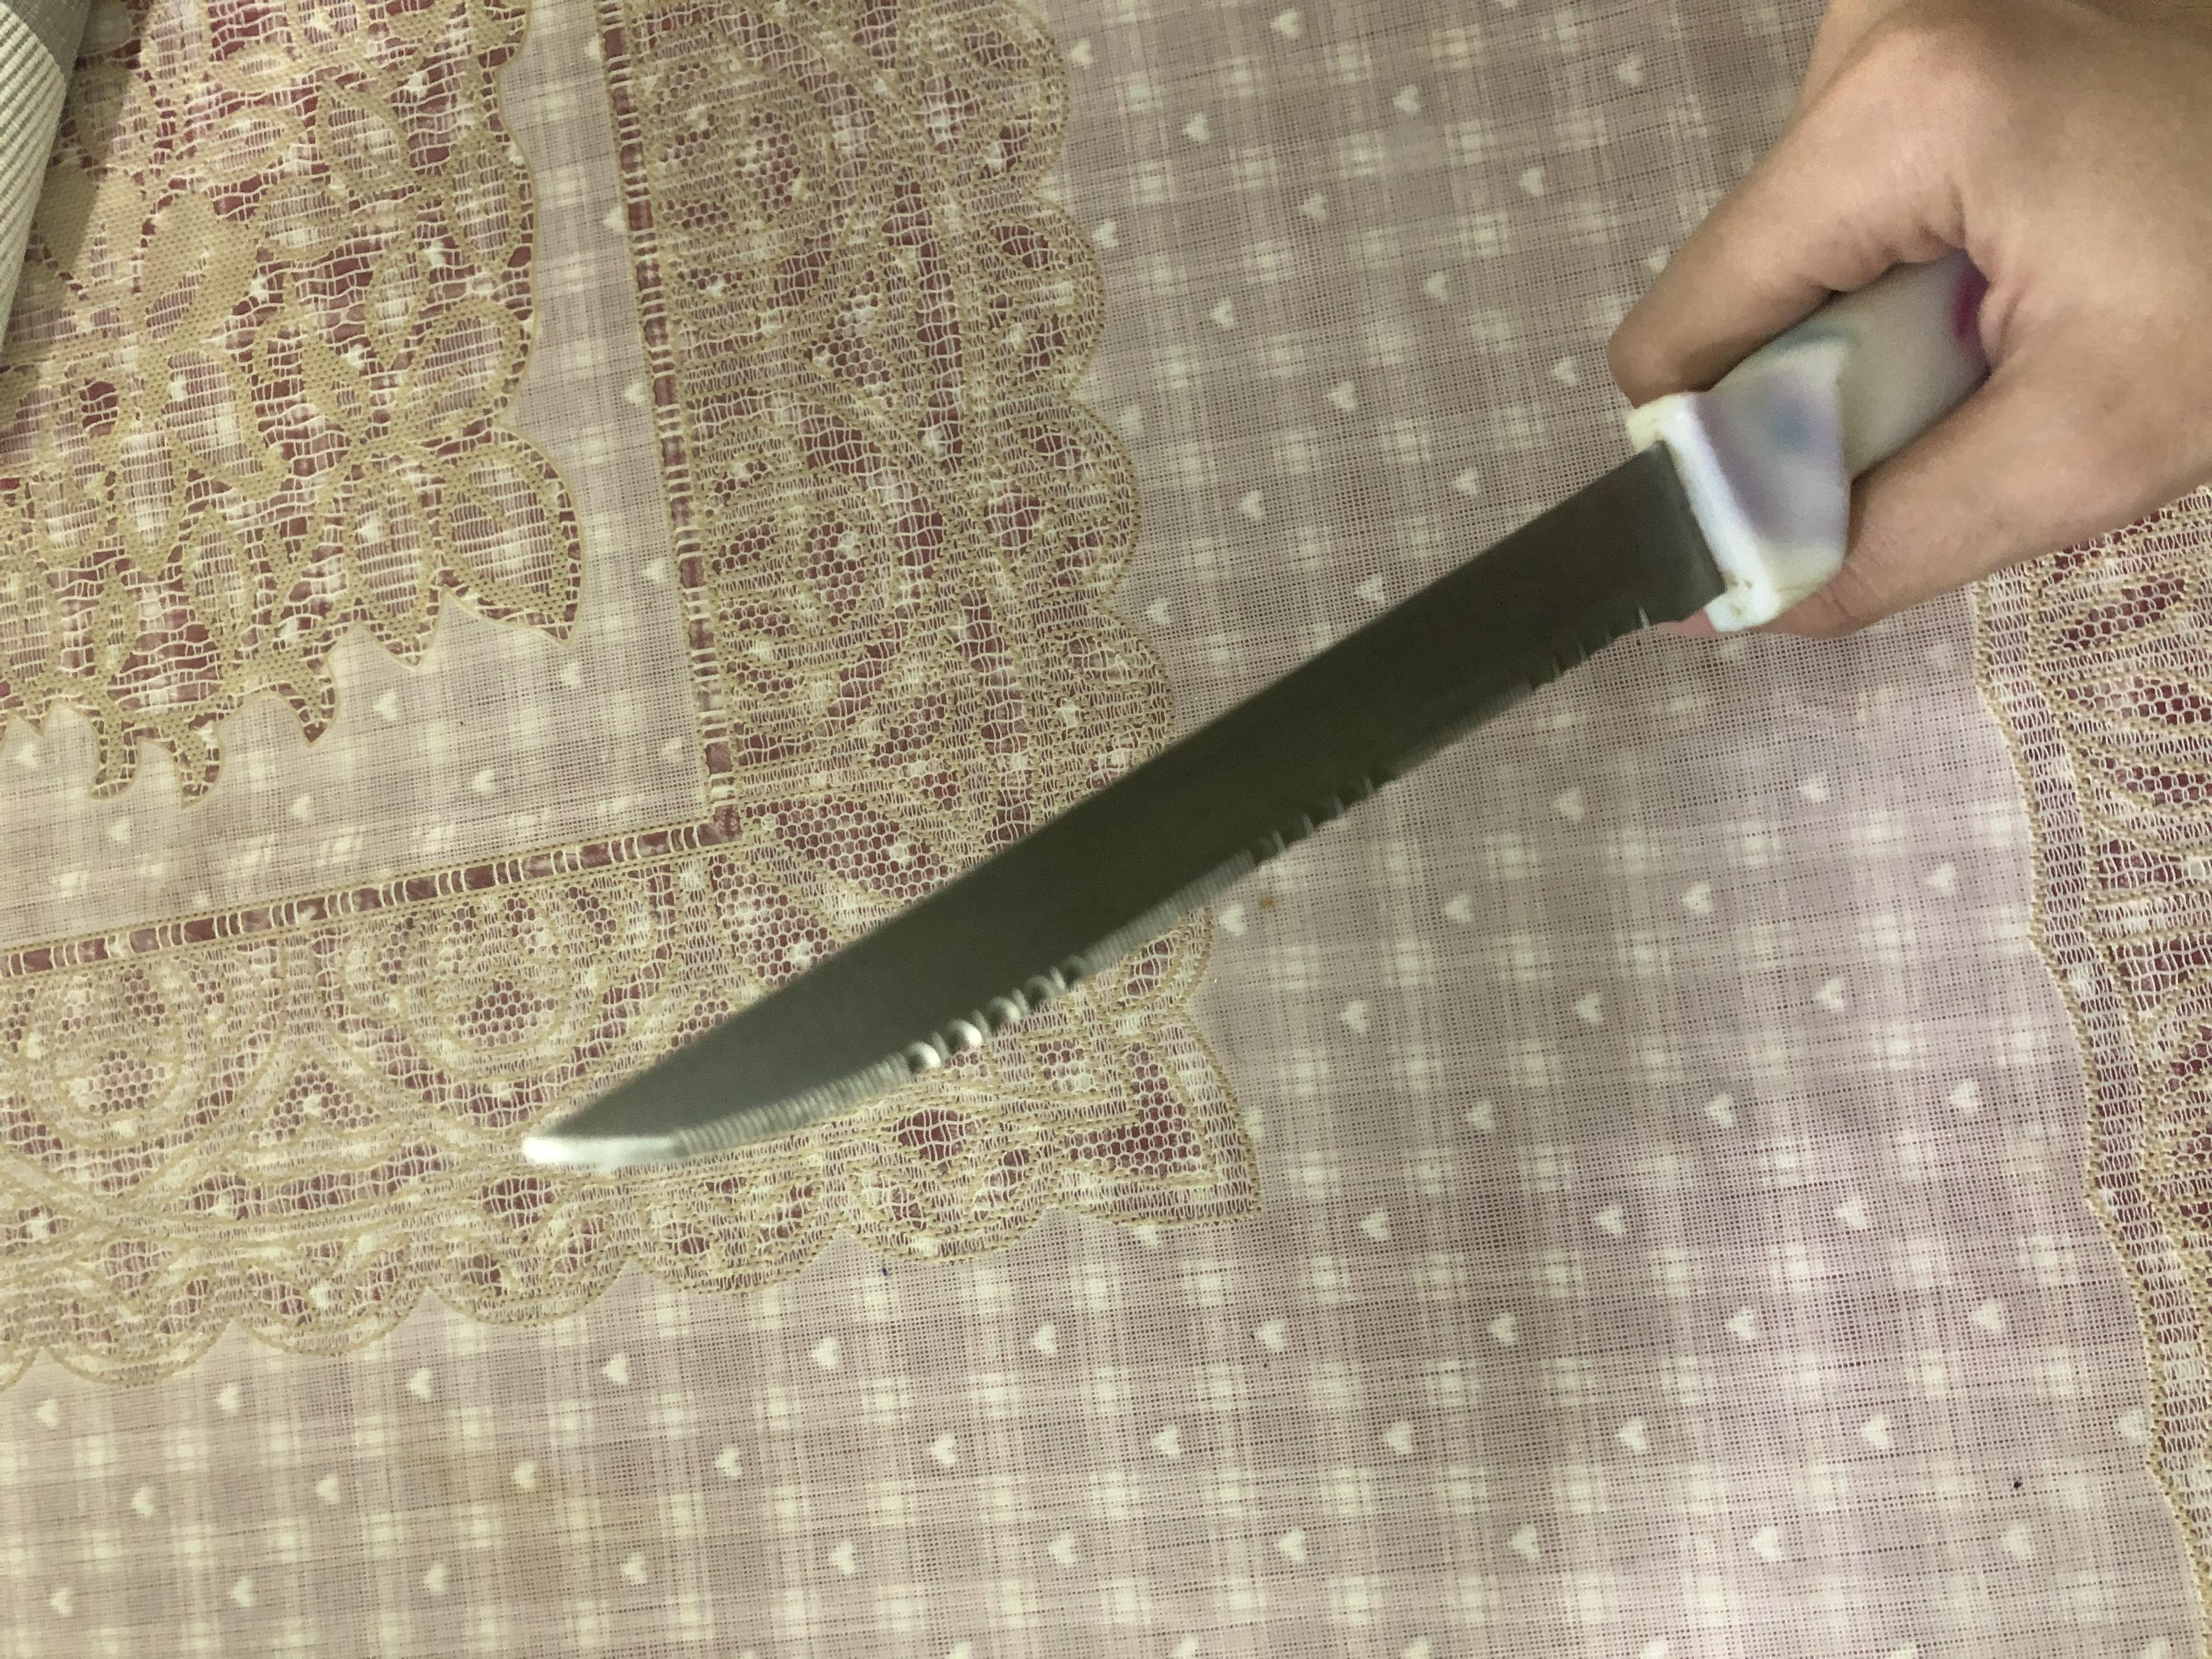weapon: (653, 392, 1883, 1506)
